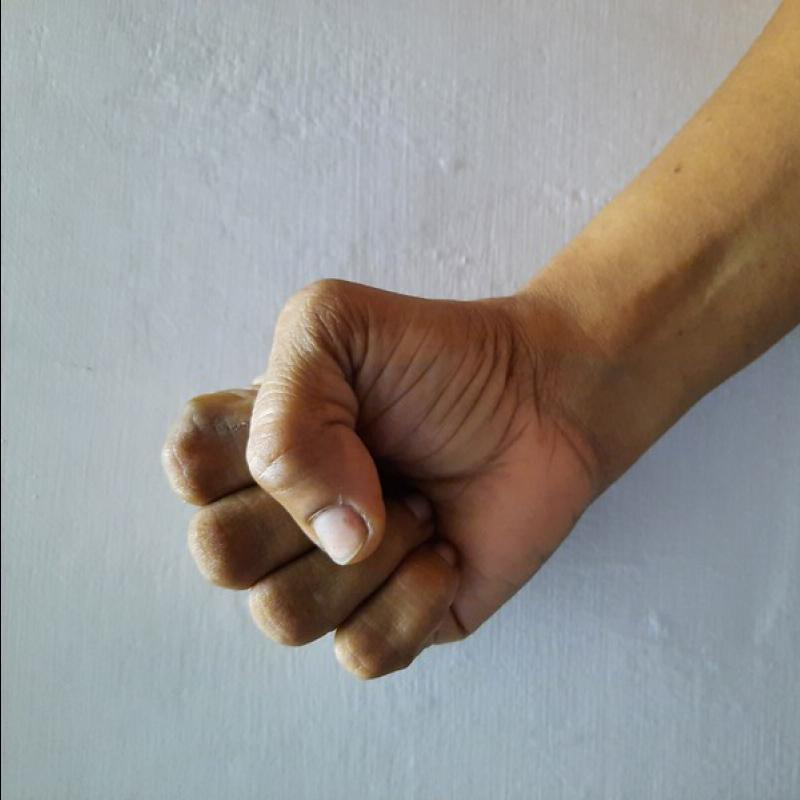Mushti: (152, 266, 594, 695)
